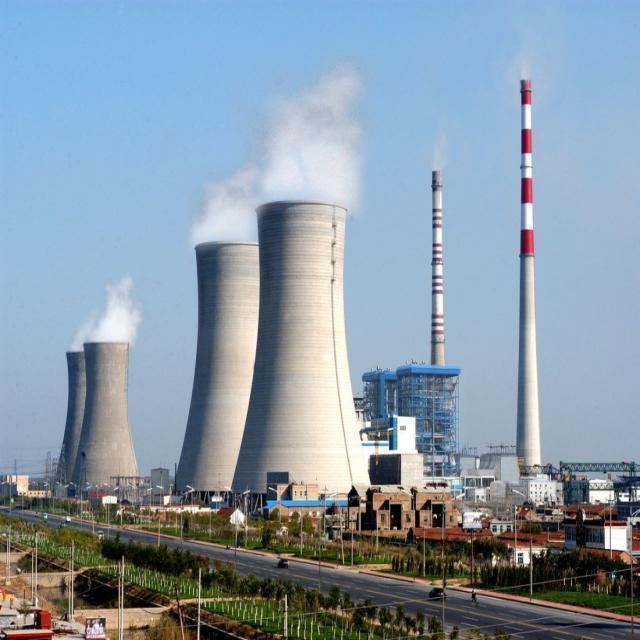Smoke: (260, 66, 362, 206), (189, 163, 259, 246), (70, 278, 136, 344)
